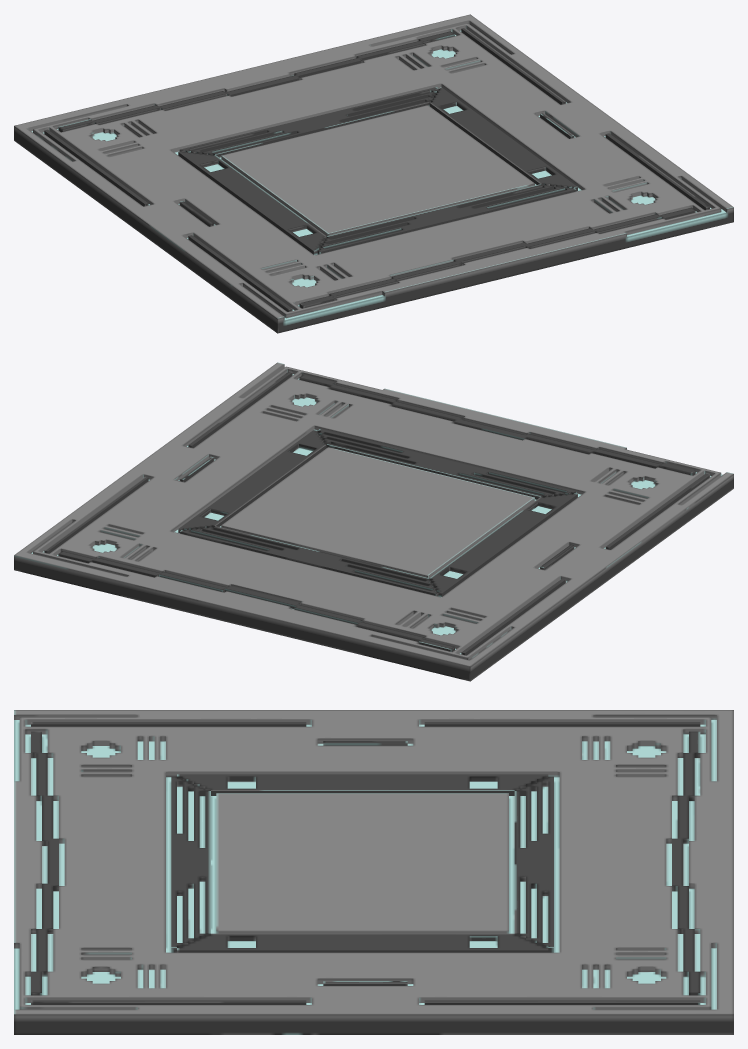
File: FlorSpaceShip.fbx
3 renders of one model, top to bottom at view 1: azimuth 30°, elevation 25°; view 2: azimuth 150°, elevation 25°; view 3: azimuth 270°, elevation 25°, orthographic. The views are drawn at different scales.
Visible parts, largest first — view 1: Untitled.001; view 2: Untitled.001; view 3: Untitled.001.
Boxes of the visible parts, x1,y1,x2,y2 form: Untitled.001: (14,14,733,333); Untitled.001: (14,362,733,681); Untitled.001: (14,710,733,1034).
Bounding box in the file's own units: 12.8 × 0.4 × 12.8.
1 material, 1 textured.
